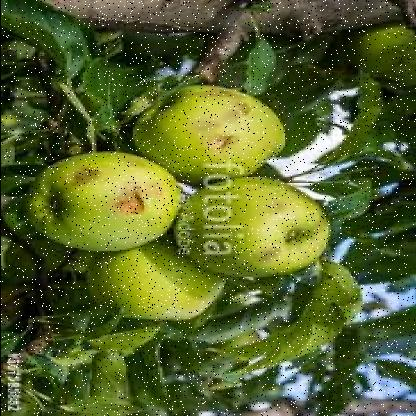apple: (168, 184, 325, 272), (96, 240, 226, 317)
damaged_apple: (30, 150, 186, 250), (139, 83, 284, 179)
